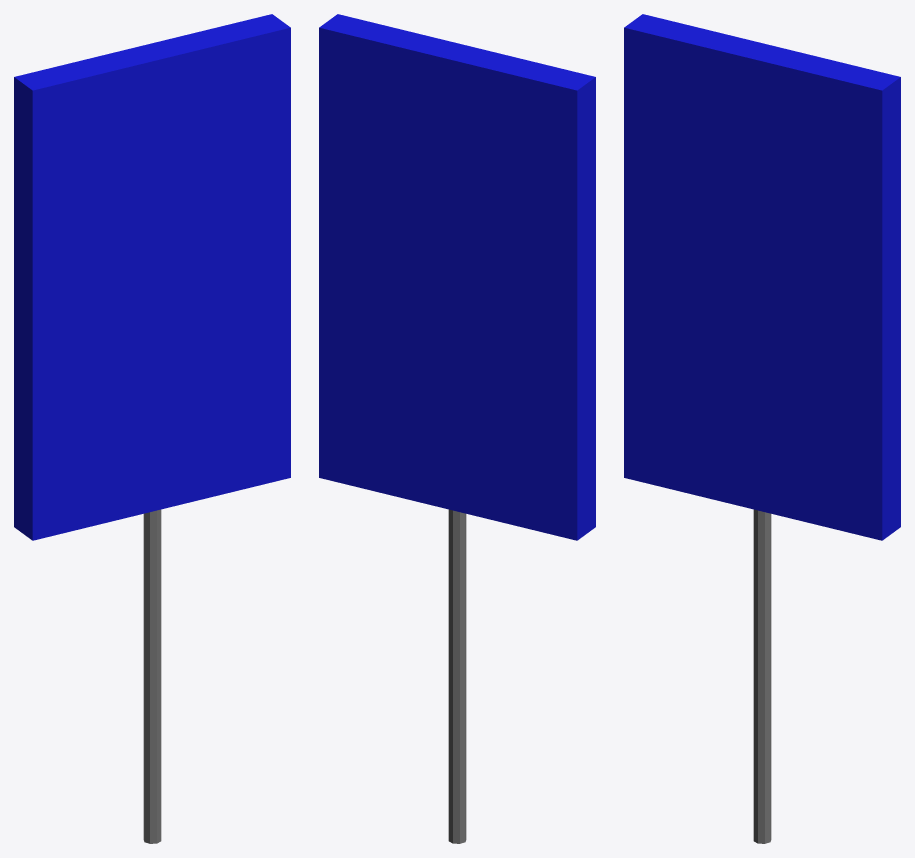
Rendered from autobahnschild.fbx.
3 views of the same model, side by side, from view 1: azimuth 30°, elevation 25°; view 2: azimuth 150°, elevation 25°; view 3: azimuth 330°, elevation 25° (orthographic).
Parts seen in each view (by area): view 1: schild, stange; view 2: schild, stange; view 3: schild, stange.
Boxes of the visible parts, bbox=[...] form: schild: bbox=[14, 14, 290, 540]; stange: bbox=[143, 509, 161, 843]; schild: bbox=[319, 14, 595, 540]; stange: bbox=[448, 509, 466, 843]; schild: bbox=[624, 14, 900, 540]; stange: bbox=[753, 509, 771, 843].
Bounding box in the file's own units: 96 × 280 × 12.
